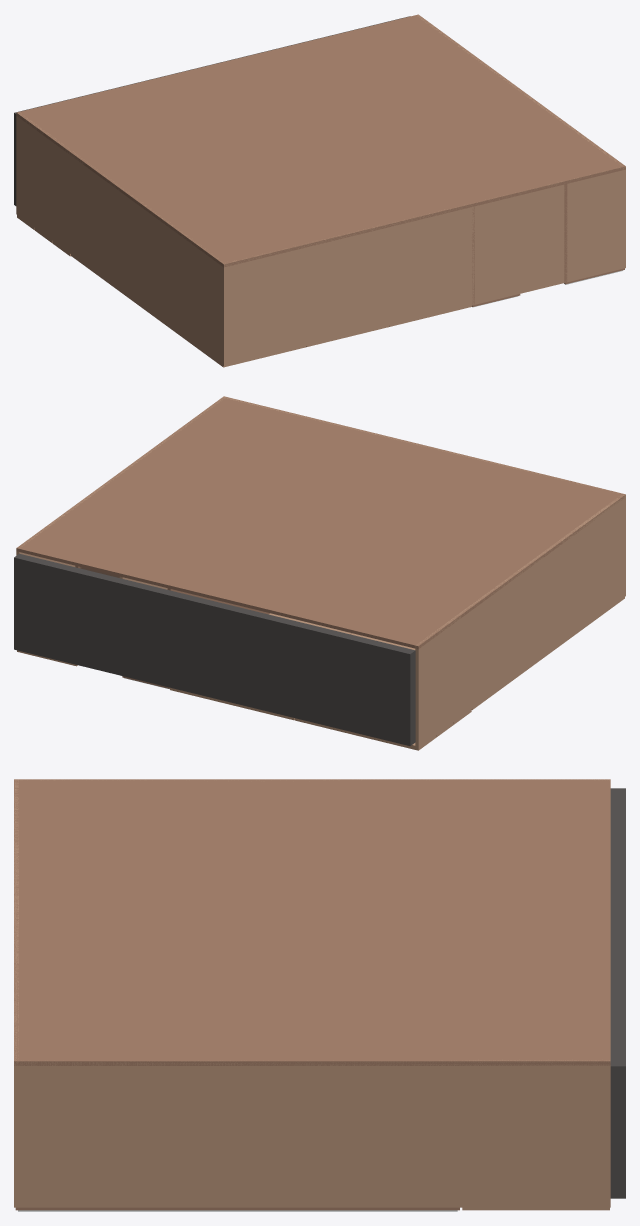
File: wardrobe.glb
The picture shows the model from 3 angles, top to bottom: view 1: azimuth 30°, elevation 25°; view 2: azimuth 150°, elevation 25°; view 3: azimuth 270°, elevation 25°; orthographic projection. The views are drawn at different scales.
Parts seen in each view (by area): view 1: Full rear panel, Top panel, Left end panel, Right end panel, Recessed plinth, Upper wood door 1; view 2: Full rear panel, Recessed plinth, Left end panel, Structural divider 0, Top panel, Right end panel, Structural divider 1; view 3: Full rear panel, Right end panel, Recessed plinth, Right mirror backing, Top panel, Right mirror, Right lower wood door.
Boxes of the visible parts, x1,y1,x2,y2 form: Full rear panel: [16, 14, 625, 267]; Top panel: [222, 167, 625, 365]; Left end panel: [16, 112, 226, 365]; Right end panel: [417, 15, 625, 268]; Recessed plinth: [14, 16, 410, 205]; Upper wood door 1: [71, 254, 305, 367]; Full rear panel: [16, 396, 625, 649]; Recessed plinth: [14, 553, 415, 745]; Left end panel: [415, 494, 625, 747]; Structural divider 0: [167, 435, 374, 614]; Top panel: [222, 397, 625, 596]; Right end panel: [16, 396, 225, 566]; Structural divider 1: [75, 413, 282, 568]; Full rear panel: [14, 779, 610, 1065]; Right end panel: [14, 1060, 610, 1207]; Recessed plinth: [610, 788, 625, 1198]; Right mirror backing: [15, 1207, 459, 1210]; Top panel: [14, 780, 18, 1207]; Right mirror: [18, 1210, 457, 1211]; Right lower wood door: [462, 1207, 609, 1210].
Bounding box in the file's own units: 2.4 × 0.615 × 2.2.
